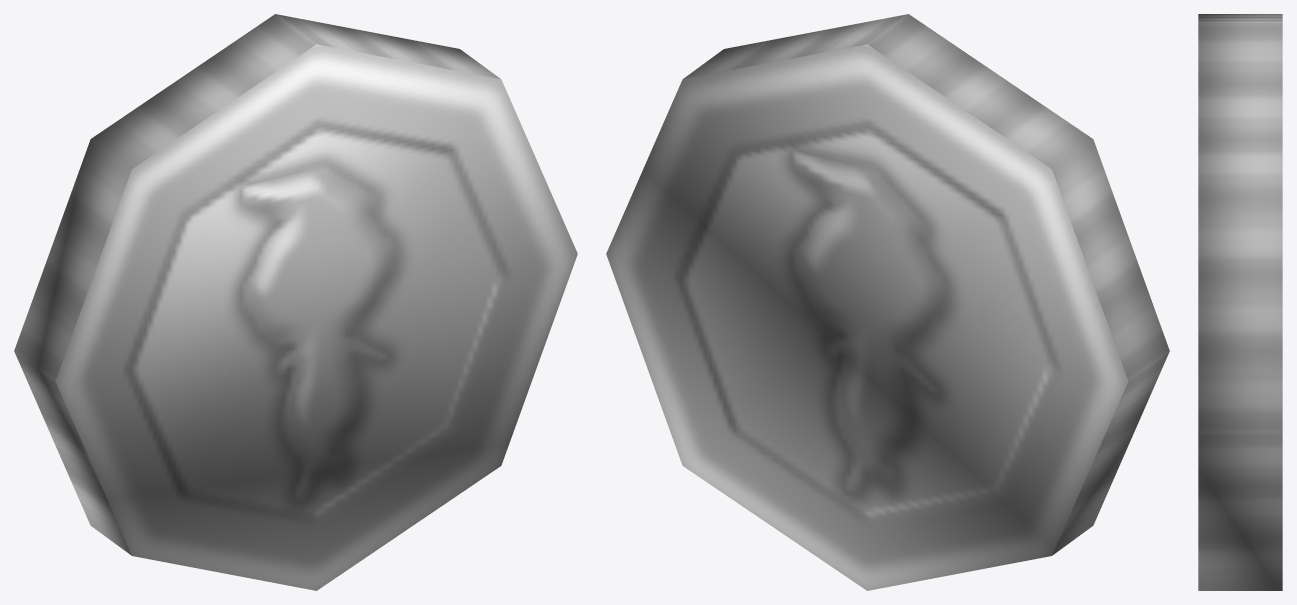
File: coin2.FBX
The picture shows the model from 3 angles, left to right: view 1: azimuth 30°, elevation 25°; view 2: azimuth 150°, elevation 25°; view 3: azimuth 270°, elevation 25°; orthographic projection.
Visible parts, largest first — view 1: coin2; view 2: coin2; view 3: coin2.
Boxes of the visible parts, bbox=[...] form: coin2: bbox=[14, 14, 577, 590]; coin2: bbox=[606, 14, 1169, 590]; coin2: bbox=[1198, 14, 1282, 590].
Size of the model in its own units: 74.51 by 74.51 by 10.23.
